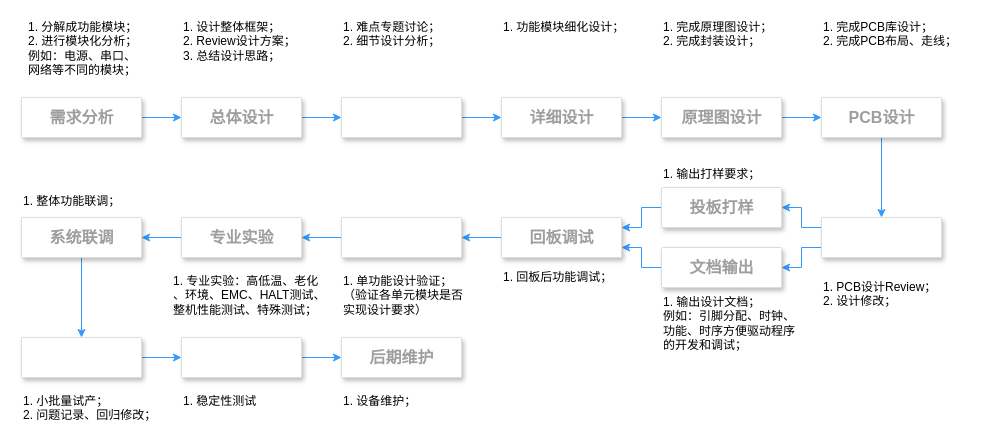
This 989x440 diagram has some shape labels left out. Each missing label, with the centre of its shape:
"Review设计" goes at point 882,238.
"专题分析" goes at point 402,118.
"单元测试" goes at point 402,238.
"小批量试产" goes at point 82,358.
"硬件稳定" goes at point 242,358.
